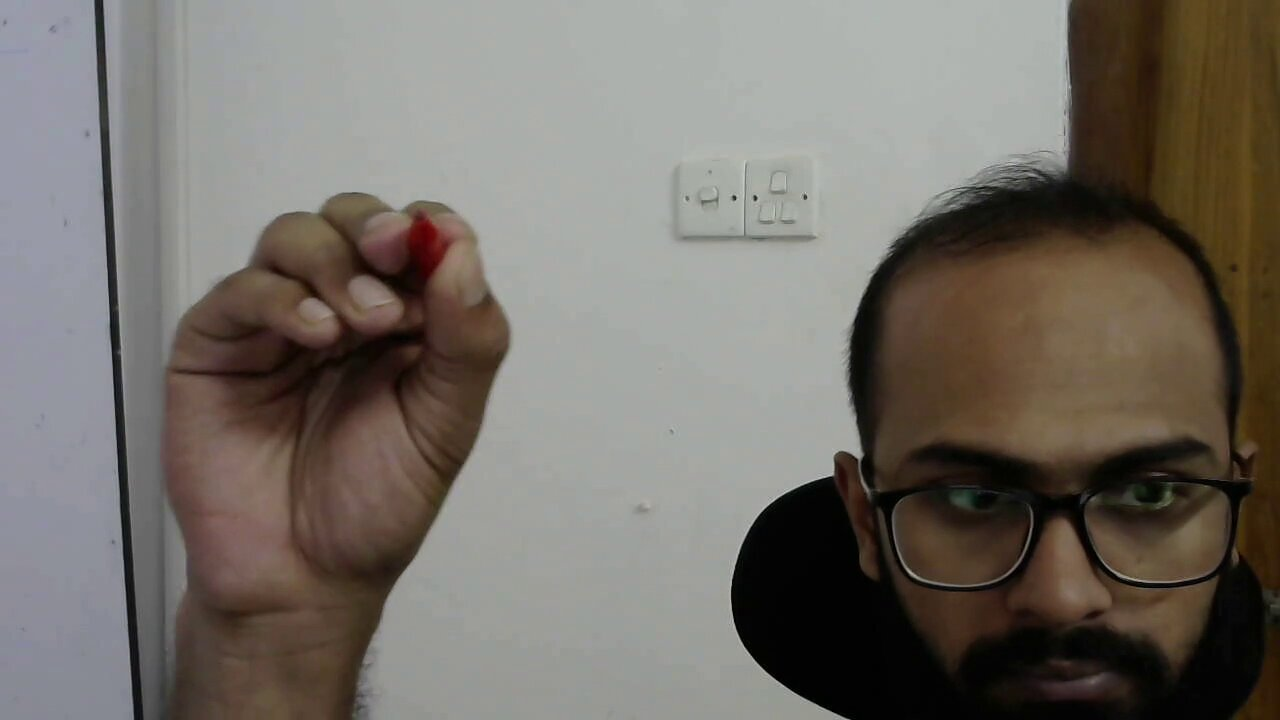pointer: (159, 193, 518, 507)
